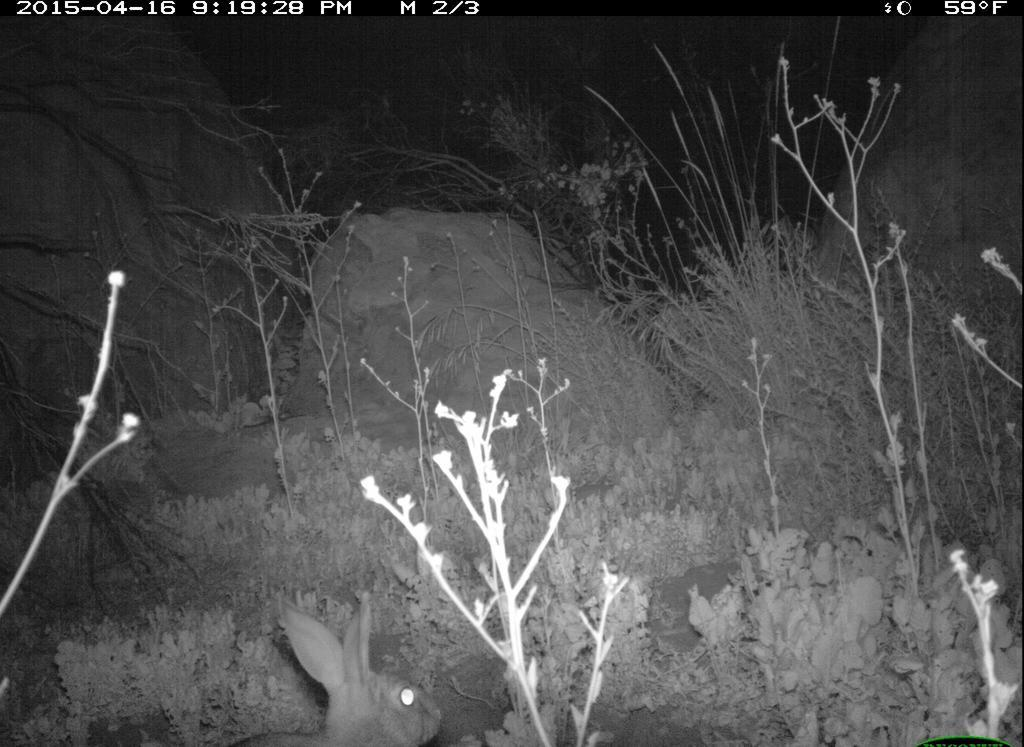rabbit: (213, 588, 449, 747)
